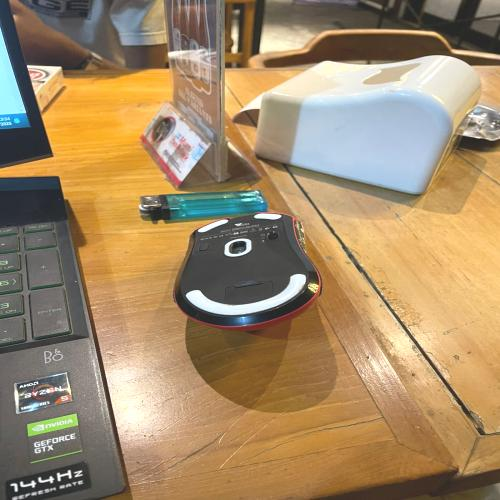mouse: (167, 209, 352, 338)
